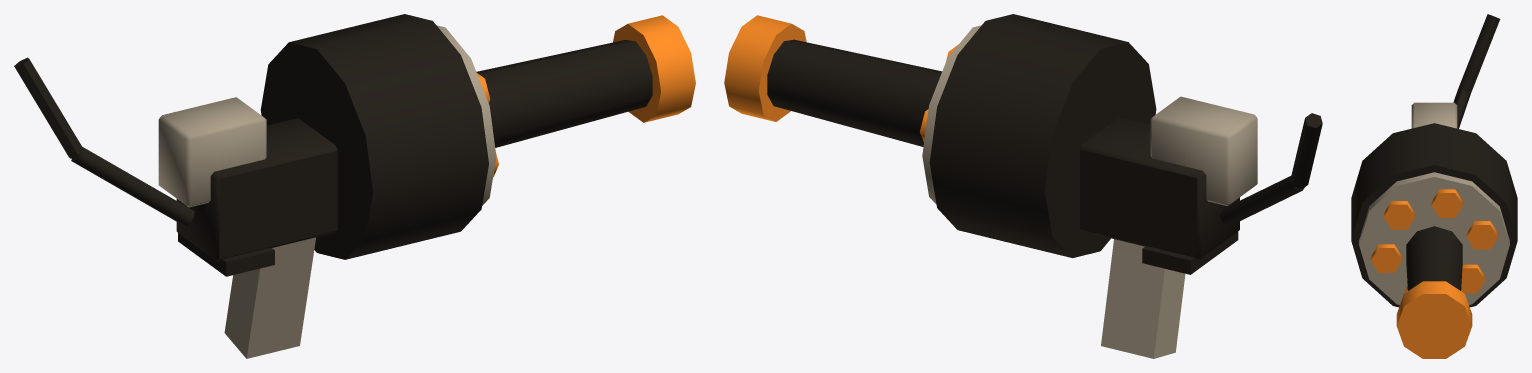
Rendered from granadero_lanzagranadas.glb.
The picture shows the model from 3 angles, left to right: view 1: azimuth 30°, elevation 25°; view 2: azimuth 150°, elevation 25°; view 3: azimuth 270°, elevation 25°; orthographic projection. The views are drawn at different scales.
Visible parts, largest first — view 1: granadero_lanzagranadas; view 2: granadero_lanzagranadas; view 3: granadero_lanzagranadas.
Part boxes in pixels (x1,y1,x2,y2): granadero_lanzagranadas: [14, 14, 695, 358]; granadero_lanzagranadas: [724, 14, 1322, 358]; granadero_lanzagranadas: [1351, 14, 1517, 358].
Bounding box in the file's own units: 0.5314 × 0.2587 × 0.168.
